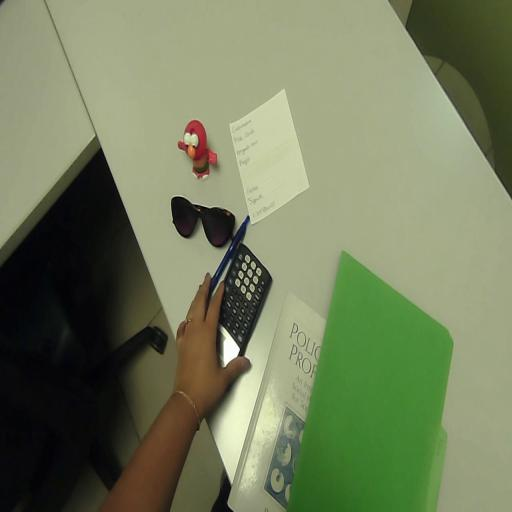pen: (208, 215, 249, 298)
